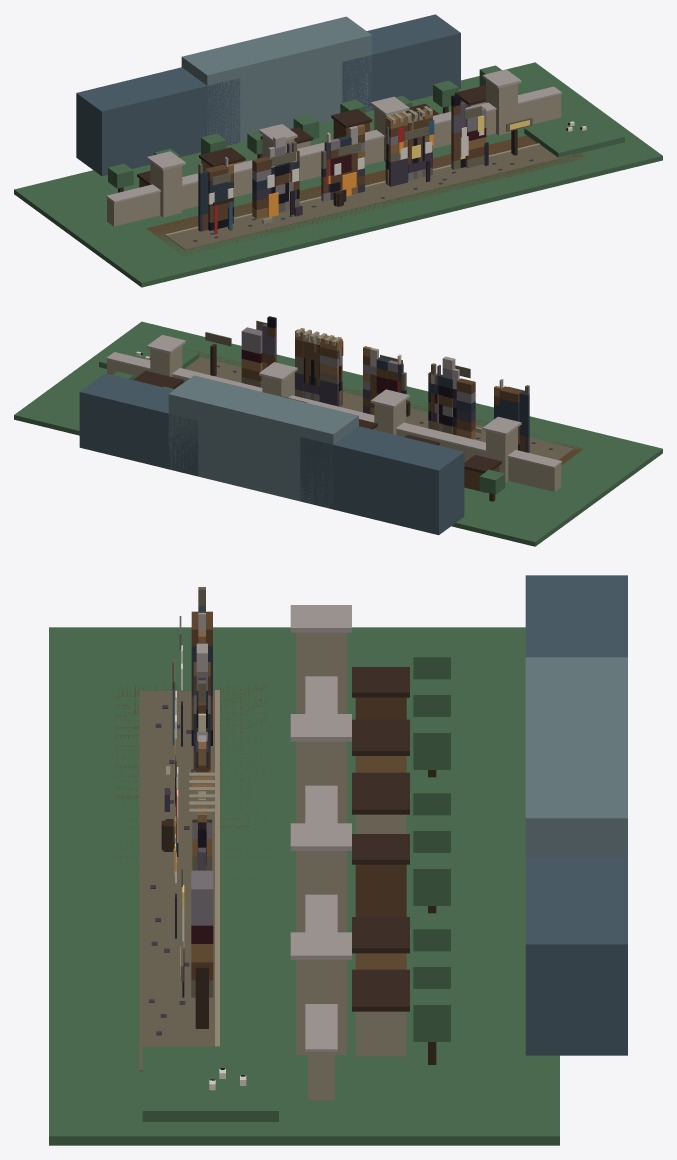
The model's file is byn.glb.
3 renders of one model, top to bottom at view 1: azimuth 30°, elevation 25°; view 2: azimuth 150°, elevation 25°; view 3: azimuth 270°, elevation 25°, orthographic. The views are drawn at different scales.
Visible parts, largest first — view 1: mark, bakgrund_berg, bakgrund_mur, hus_karta, hus_smed, bakgrund_träd, hus_vardshus, kulle, bakgrund_hus, hus_juvelerare, hus_tradet, hus_avsluta; view 2: bakgrund_berg, mark, bakgrund_mur, hus_karta, hus_smed, hus_vardshus, hus_juvelerare, bakgrund_hus, hus_tradet, kulle, bakgrund_träd, hus_avsluta; view 3: mark, bakgrund_berg, bakgrund_mur, bakgrund_hus, bakgrund_träd, kulle, hus_juvelerare, hus_karta, hus_smed, hus_tradet, hus_vardshus, hus_avsluta.
Part boxes in pixels (bbox=[...]): mark: bbox=[14, 62, 662, 287]; bakgrund_berg: bbox=[76, 14, 460, 176]; bakgrund_mur: bbox=[106, 69, 561, 226]; hus_karta: bbox=[385, 106, 434, 186]; hus_smed: bbox=[252, 134, 302, 223]; bakgrund_träd: bbox=[108, 65, 501, 192]; hus_vardshus: bbox=[321, 124, 364, 206]; kulle: bbox=[524, 112, 624, 157]; bakgrund_hus: bbox=[137, 85, 485, 187]; hus_juvelerare: bbox=[451, 94, 488, 169]; hus_tradet: bbox=[198, 157, 233, 234]; hus_avsluta: bbox=[506, 117, 532, 155]; bakgrund_berg: bbox=[79, 373, 464, 535]; mark: bbox=[14, 321, 662, 546]; bakgrund_mur: bbox=[106, 334, 561, 491]; hus_karta: bbox=[295, 328, 343, 406]; hus_smed: bbox=[428, 356, 482, 439]; hus_vardshus: bbox=[363, 346, 410, 422]; hus_juvelerare: bbox=[241, 316, 276, 387]; bakgrund_hus: bbox=[133, 370, 501, 492]; hus_tradet: bbox=[494, 379, 529, 452]; kulle: bbox=[99, 337, 199, 368]; bakgrund_träd: bbox=[113, 371, 505, 501]; hus_avsluta: bbox=[205, 332, 231, 376]; mark: bbox=[49, 627, 559, 1145]; bakgrund_berg: bbox=[525, 575, 627, 1055]; bakgrund_mur: bbox=[290, 605, 351, 1100]; bakgrund_hus: bbox=[352, 667, 409, 1056]; bakgrund_träd: bbox=[413, 641, 450, 1064]; kulle: bbox=[142, 1046, 278, 1121]; hus_juvelerare: bbox=[181, 822, 213, 997]; hus_karta: bbox=[173, 772, 214, 938]; hus_smed: bbox=[164, 643, 210, 811]; hus_tradet: bbox=[172, 587, 212, 746]; hus_vardshus: bbox=[161, 713, 208, 856]; hus_avsluta: bbox=[180, 941, 208, 1028].
Size of the model in its own units: 70.7 by 10.35 by 34.
